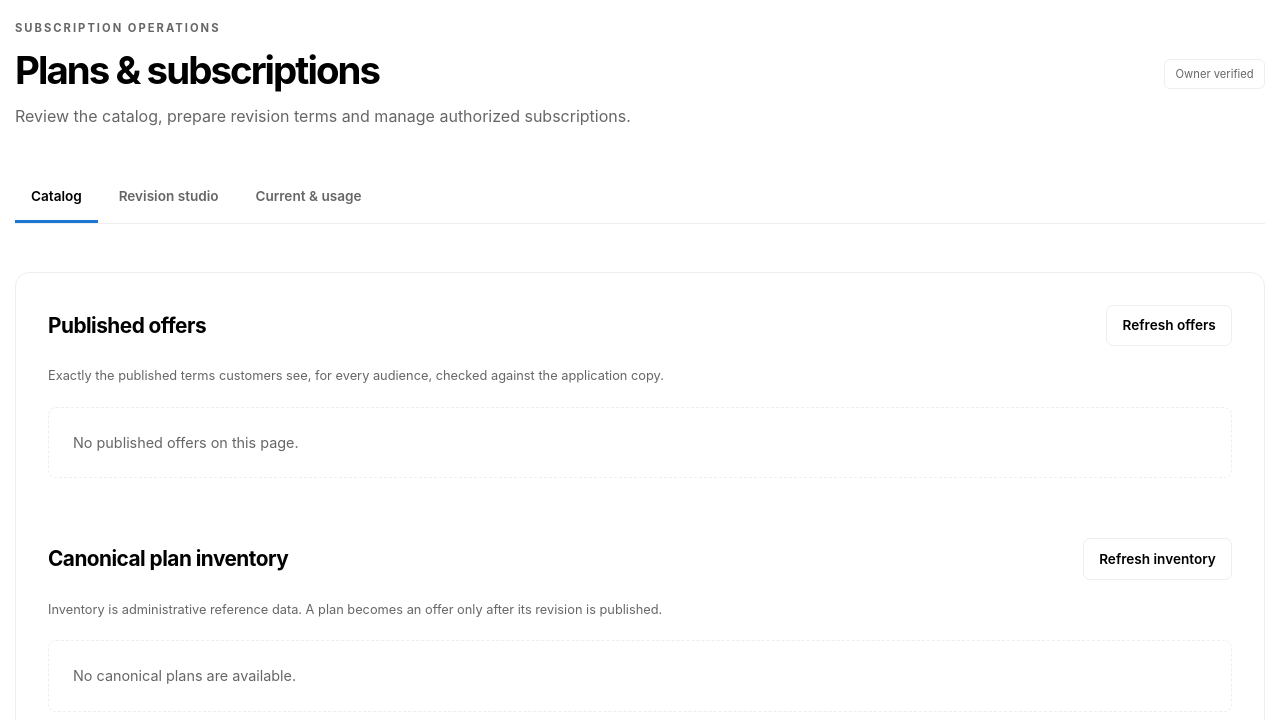
Test case: routed subscription workspace › shows real empty inventory and exposes authoring/current sections
Step 1. Click the button "Current & usage" → (308, 197), box [239, 172, 378, 223]
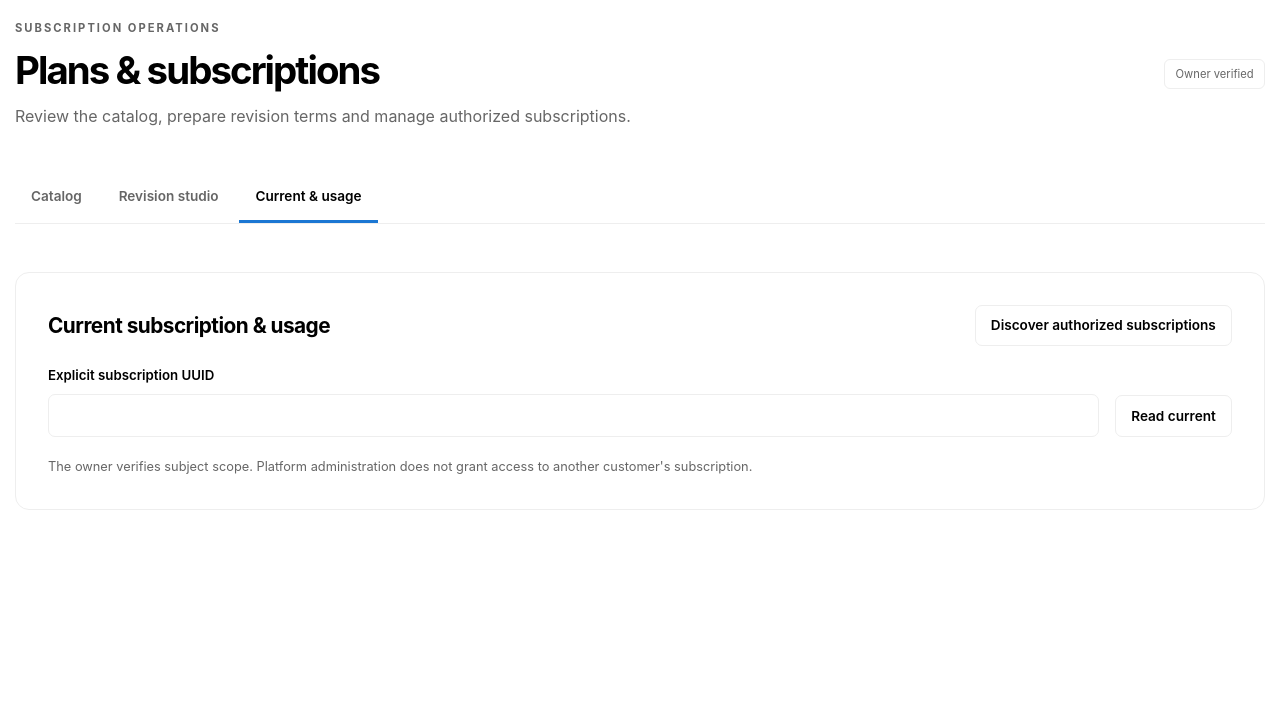
Expected: the text "Explicit subscription UUID" is shown, [48, 366, 1099, 437]
Expected: the text "does not grant access" is shown, [48, 459, 752, 474]
